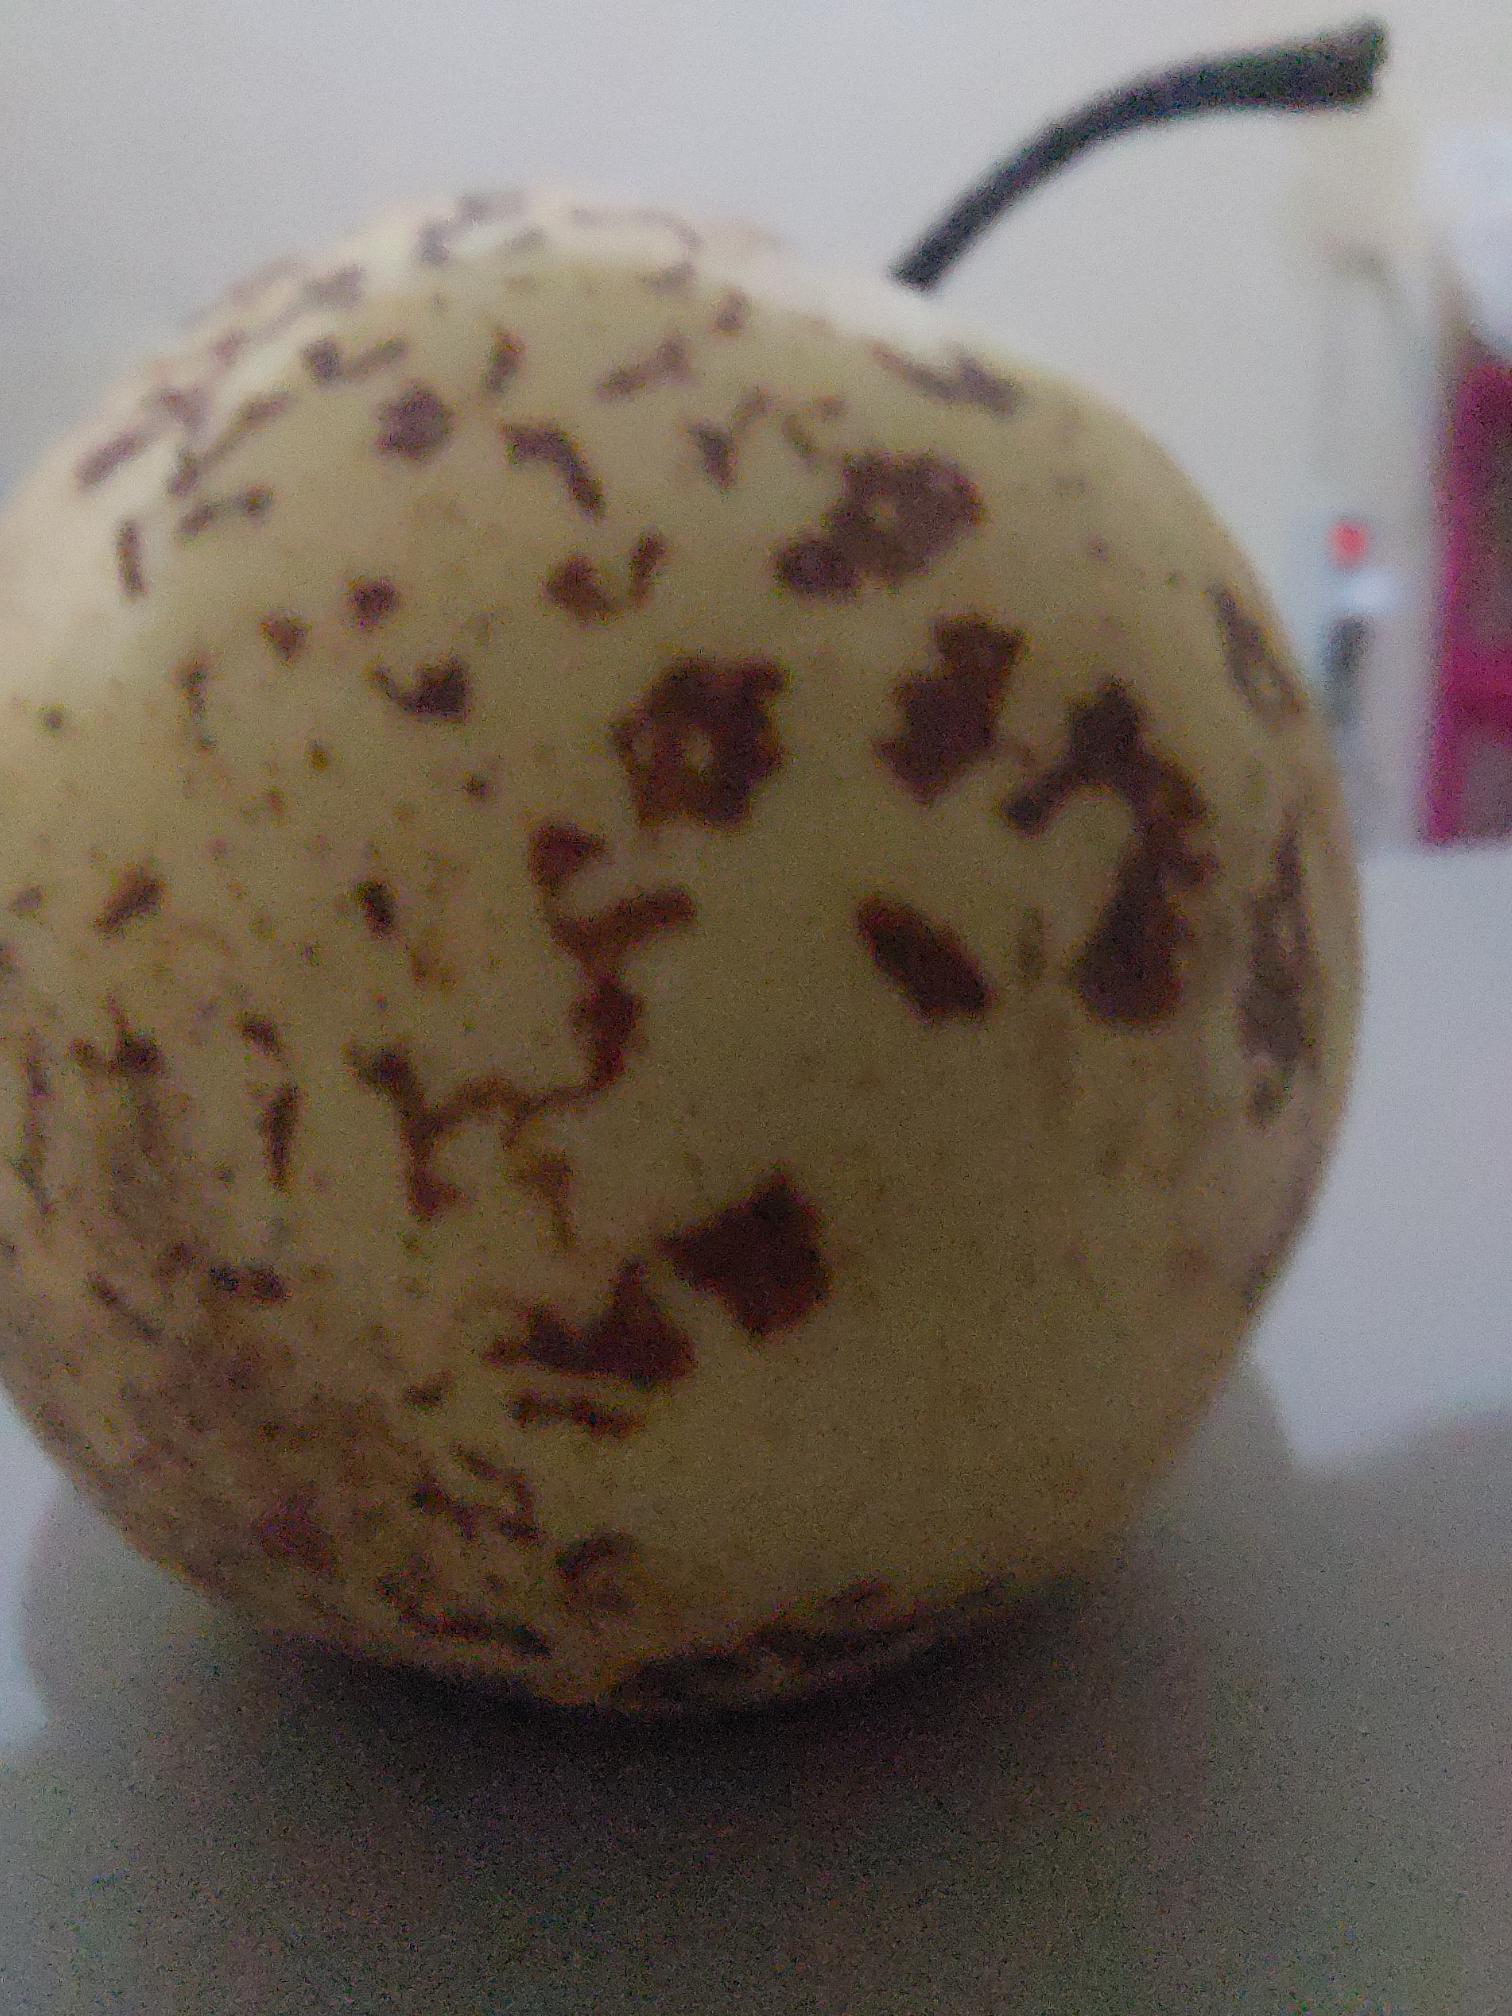Bad Pear: (8, 30, 1436, 1735)
